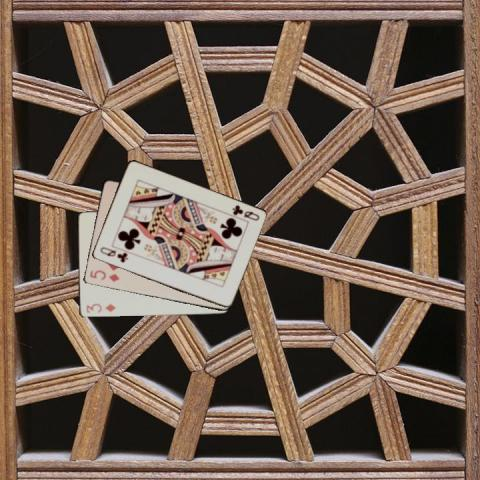3d: (83, 300, 117, 314)
5d: (87, 268, 120, 284)
Qc: (97, 244, 129, 264), (229, 202, 261, 222)
